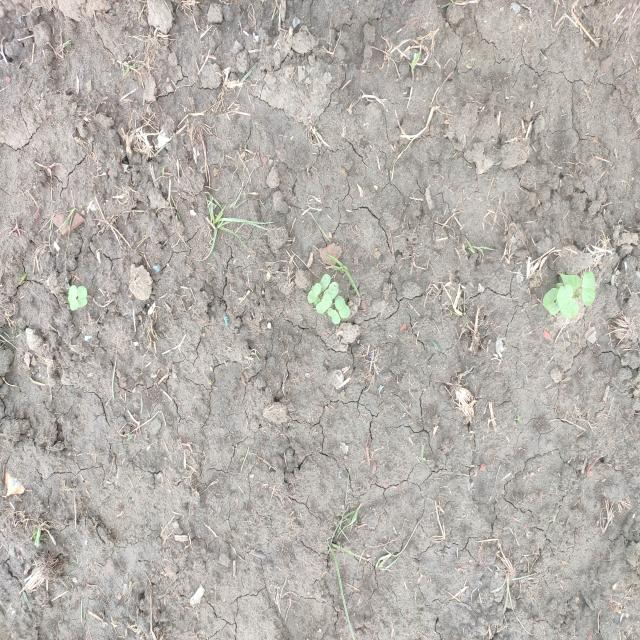seedling_s4: (557, 284, 579, 318), (582, 271, 595, 307), (560, 274, 581, 293), (316, 293, 332, 314), (335, 296, 350, 318), (323, 281, 339, 300), (543, 288, 558, 308), (68, 285, 79, 311), (307, 283, 321, 303), (327, 307, 341, 324), (77, 286, 87, 307), (319, 274, 330, 292), (548, 300, 560, 315)
